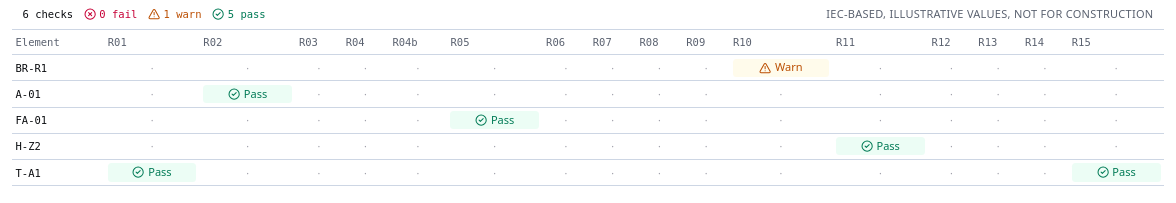
Test: clicking a cell opens that finding; a what-if swaps in the shadow results
This screenshot has width=1176, height=203.
Click the button with aria-label "R05 FA-01: Pass". click: (495, 120)
box: [450,111,539,129]
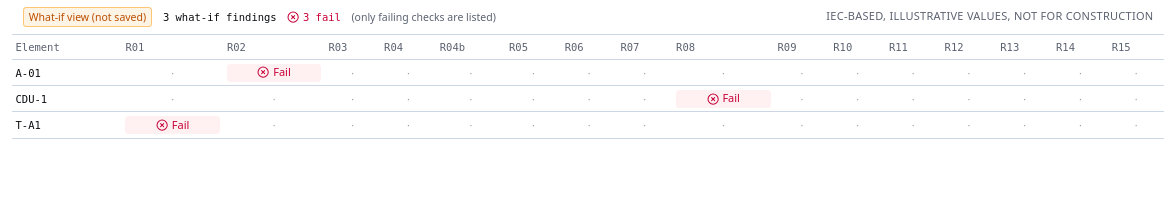
Now the text "What-if view (not saved)" is shown, box [22,7,152,26]
Now the button with aria-label "R02 A-01: Fail" is shown, box [227,64,321,82]
